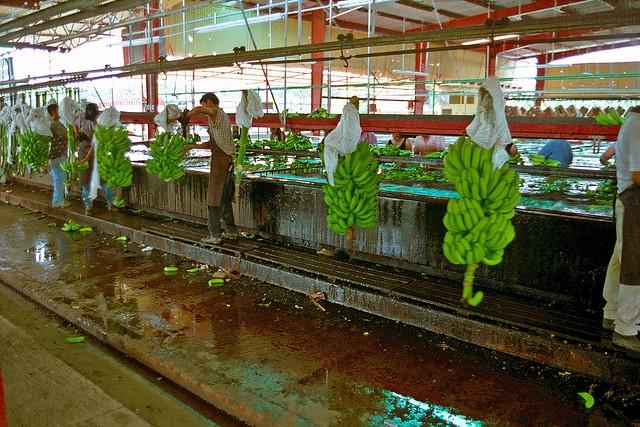banana: (478, 144, 494, 178), (488, 183, 511, 203), (443, 153, 462, 176), (442, 212, 462, 233), (442, 242, 461, 264), (487, 167, 501, 196), (487, 180, 507, 200), (468, 216, 489, 234), (470, 198, 485, 220), (357, 163, 378, 177), (452, 149, 466, 169), (362, 194, 378, 211), (578, 392, 594, 408), (467, 291, 484, 306), (358, 188, 378, 200), (472, 146, 482, 170), (486, 222, 498, 241), (464, 142, 472, 170), (454, 248, 468, 264), (464, 210, 474, 231), (332, 222, 348, 235), (480, 256, 503, 265), (495, 197, 509, 211), (508, 191, 520, 207), (338, 198, 349, 214), (356, 215, 375, 224), (502, 220, 512, 237), (352, 160, 362, 176), (458, 199, 468, 215), (504, 225, 514, 241), (472, 228, 481, 245), (478, 230, 487, 246), (502, 209, 515, 220), (65, 336, 85, 343), (360, 147, 370, 161), (349, 195, 357, 212), (334, 177, 351, 185), (115, 137, 130, 146), (464, 251, 474, 264), (208, 278, 224, 286), (446, 197, 454, 213), (471, 142, 478, 160), (166, 134, 175, 148), (596, 115, 608, 125), (20, 134, 30, 146), (494, 248, 504, 259), (62, 222, 72, 232), (607, 113, 617, 123), (121, 162, 130, 172), (114, 126, 123, 136), (382, 144, 393, 152), (512, 175, 520, 186), (164, 266, 178, 272), (340, 155, 346, 169), (158, 135, 165, 147), (462, 168, 468, 182), (102, 132, 110, 142), (288, 139, 298, 147), (544, 162, 560, 167), (616, 111, 622, 124), (286, 138, 297, 145), (448, 234, 454, 246), (333, 171, 343, 178), (266, 140, 277, 146), (112, 197, 119, 206), (187, 267, 199, 272), (316, 111, 326, 117), (19, 152, 25, 162), (333, 196, 339, 206), (114, 236, 128, 240), (158, 171, 165, 179), (102, 174, 109, 182), (79, 228, 93, 232), (530, 155, 544, 159), (328, 220, 333, 231), (358, 188, 367, 194), (355, 182, 364, 188), (164, 176, 173, 182), (424, 155, 442, 158), (173, 160, 182, 166), (210, 283, 223, 287), (399, 150, 412, 154), (110, 153, 114, 166), (32, 148, 38, 156), (162, 154, 168, 162), (105, 154, 109, 165), (331, 206, 338, 212), (286, 138, 294, 143), (289, 113, 299, 117), (111, 176, 116, 184), (48, 222, 56, 227), (304, 142, 310, 148), (302, 142, 308, 148), (338, 156, 343, 163), (44, 140, 52, 144), (98, 150, 102, 158), (23, 132, 27, 140), (44, 136, 52, 140), (550, 183, 558, 187), (72, 223, 76, 231), (33, 143, 37, 151), (426, 176, 434, 180), (312, 113, 318, 118), (22, 212, 32, 215), (154, 156, 160, 161), (398, 174, 412, 176), (407, 172, 421, 174), (559, 187, 568, 190), (382, 150, 387, 155), (119, 154, 122, 162), (64, 223, 70, 227), (318, 111, 324, 115), (434, 176, 440, 180), (548, 187, 556, 190), (194, 134, 197, 141), (254, 164, 264, 166), (72, 168, 77, 172), (182, 141, 187, 145), (286, 164, 296, 166), (75, 158, 78, 164), (125, 156, 128, 161), (404, 154, 410, 156), (300, 165, 304, 167), (412, 174, 416, 176), (326, 113, 328, 117), (287, 110, 289, 114), (322, 144, 324, 148), (306, 162, 310, 164), (280, 164, 283, 166), (276, 171, 278, 173), (44, 162, 44, 164)
